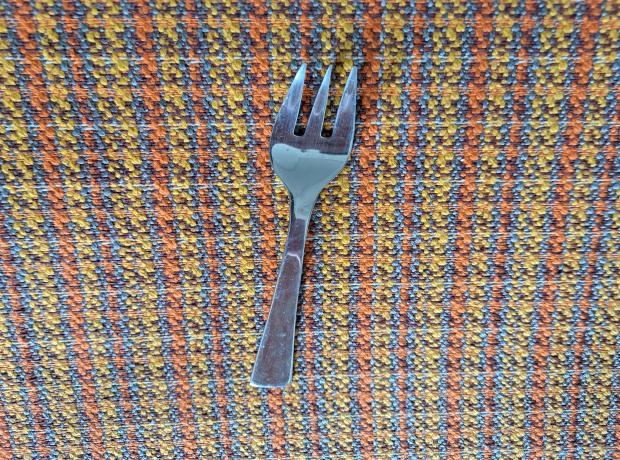metal: (248, 62, 368, 387)
